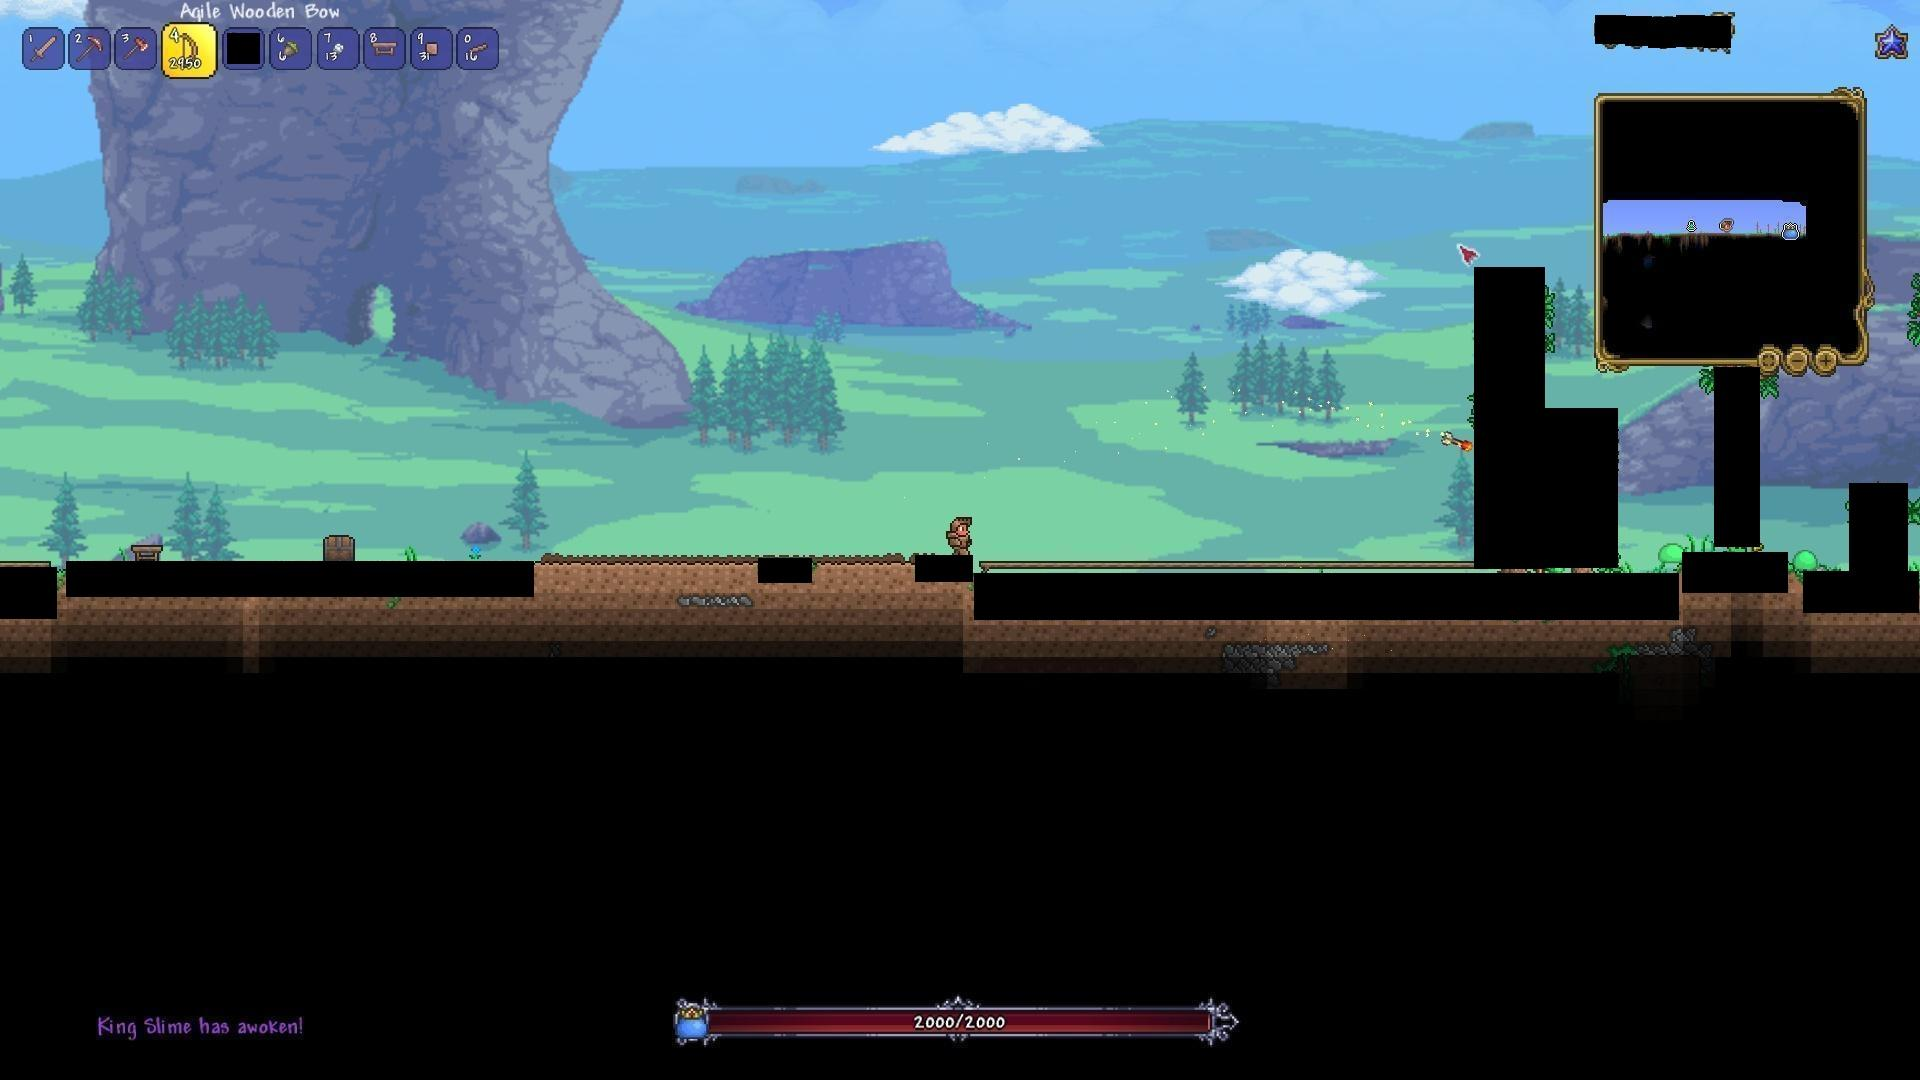slime: (1792, 545, 1817, 572), (1660, 541, 1685, 563)
workbench: (367, 34, 404, 59), (127, 538, 164, 563)
